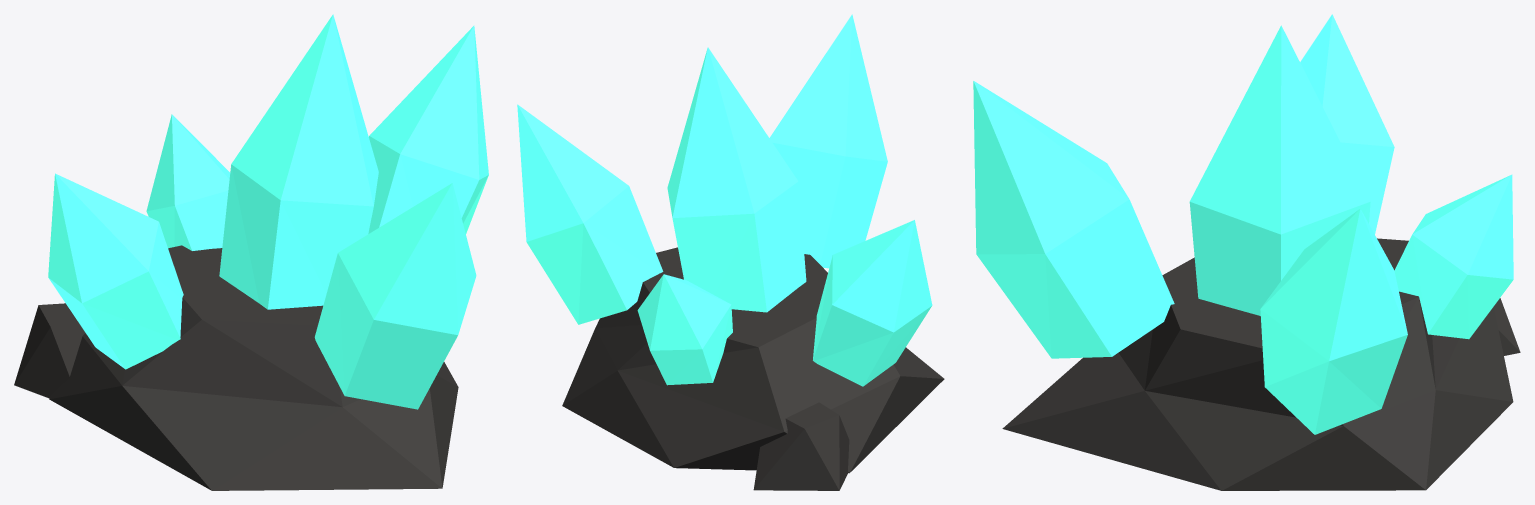
The model's file is RC_CrystalCluster.fbx.
3 renders of one model, left to right at view 1: azimuth 30°, elevation 25°; view 2: azimuth 150°, elevation 25°; view 3: azimuth 270°, elevation 25°, orthographic. The views are drawn at different scales.
Visible parts, largest first — view 1: RC_CrystalCluster_Neon_Crystal, RC_CrystalCluster_Base; view 2: RC_CrystalCluster_Neon_Crystal, RC_CrystalCluster_Base; view 3: RC_CrystalCluster_Neon_Crystal, RC_CrystalCluster_Base.
Boxes of the visible parts, left/top/right/bottom form: RC_CrystalCluster_Neon_Crystal: left=48, top=14, right=488, bottom=409; RC_CrystalCluster_Base: left=14, top=245, right=458, bottom=490; RC_CrystalCluster_Neon_Crystal: left=517, top=14, right=932, bottom=386; RC_CrystalCluster_Base: left=562, top=247, right=944, bottom=490; RC_CrystalCluster_Neon_Crystal: left=973, top=14, right=1513, bottom=434; RC_CrystalCluster_Base: left=1002, top=238, right=1520, bottom=490.
Bounding box in the file's own units: 6 × 5 × 6.
